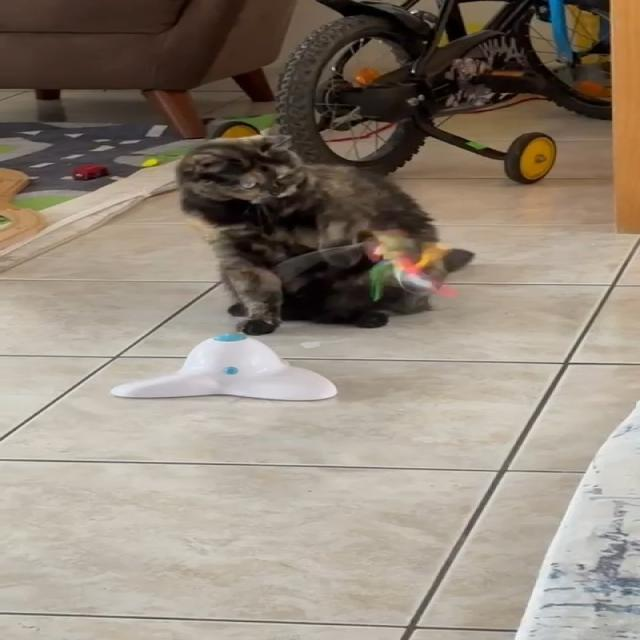authorized: (174, 134, 474, 335)
